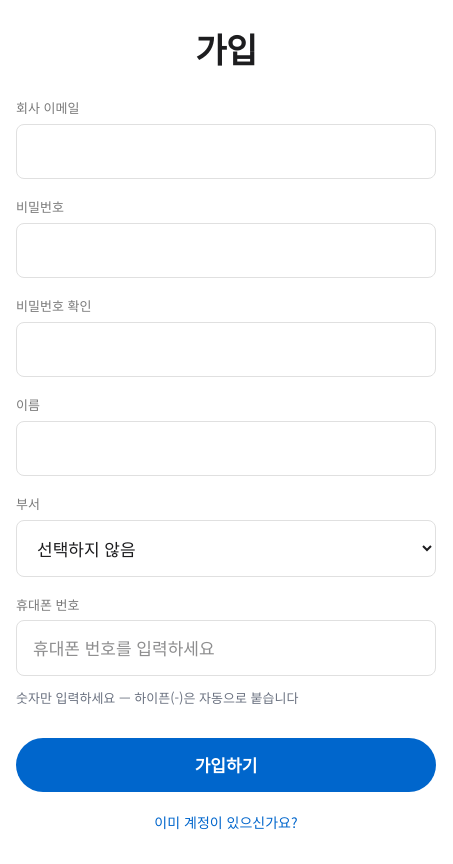
회원가입 › 비밀번호가 10자 미만이면 가입 요청(POST /api/auth/signup)을 보내지 않는다
This screenshot has width=453, height=864.
Step 1. Type "a@gonjiam.com" into the field labelled "회사 이메일" → (226, 151), box [16, 124, 436, 179]
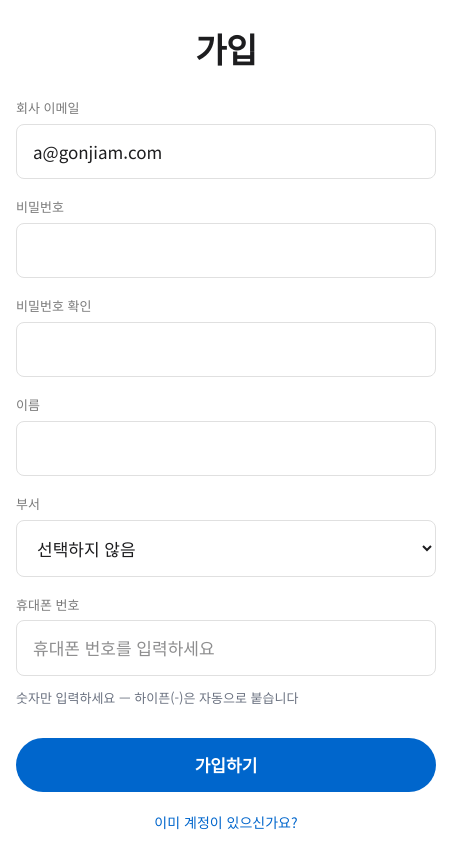
Step 2. Type "short" into the password field labelled "비밀번호" → (226, 250), box [16, 223, 436, 278]
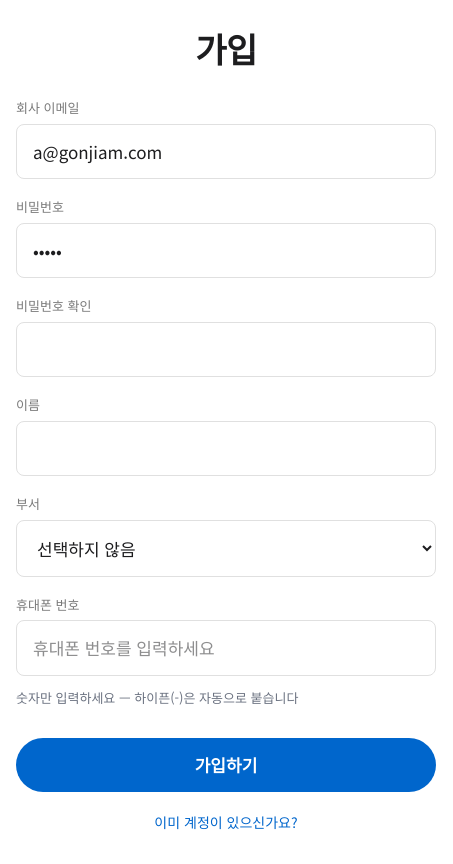
Step 3. Type "short" into the password field labelled "비밀번호 확인" → (226, 349), box [16, 322, 436, 377]
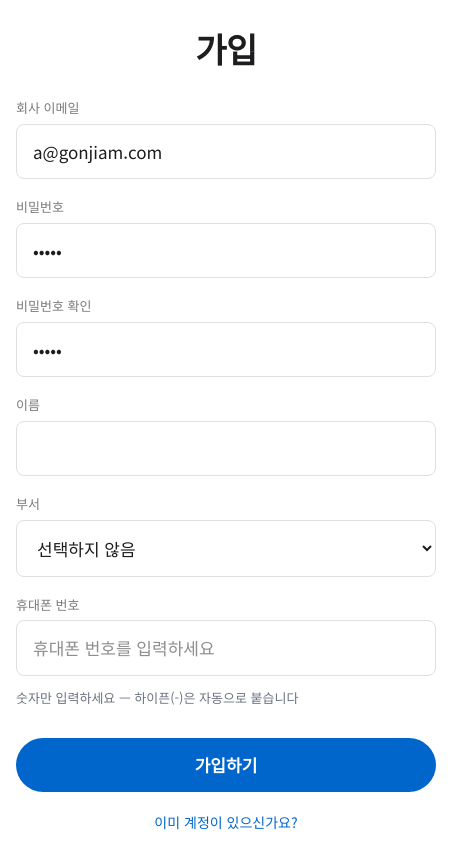
Step 4. Type "홍길동" into the field labelled "이름" → (226, 448), box [16, 421, 436, 476]
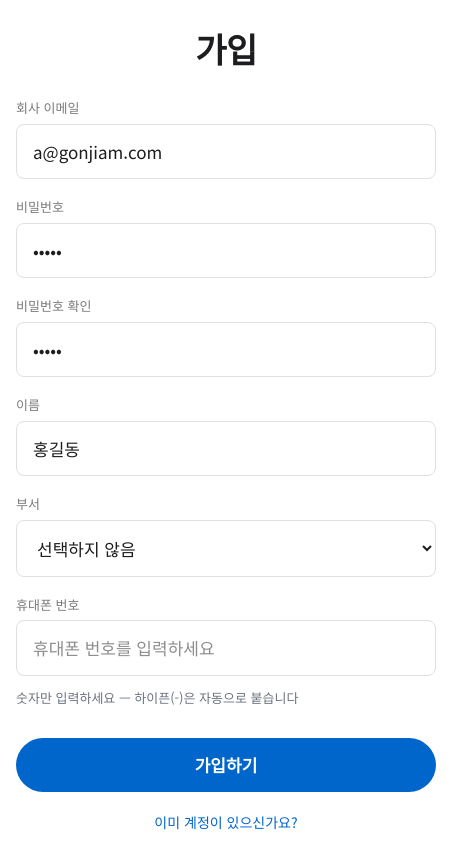
Step 5. Click the button "가입하기" → (226, 765), box [16, 738, 436, 792]
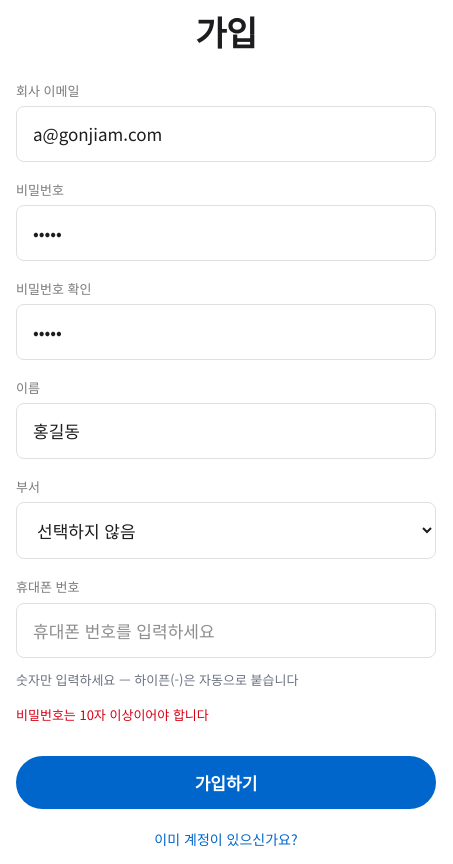
Result: the text "비밀번호는 10자 이상이어야 합니다" is shown at [16, 705, 209, 724]
